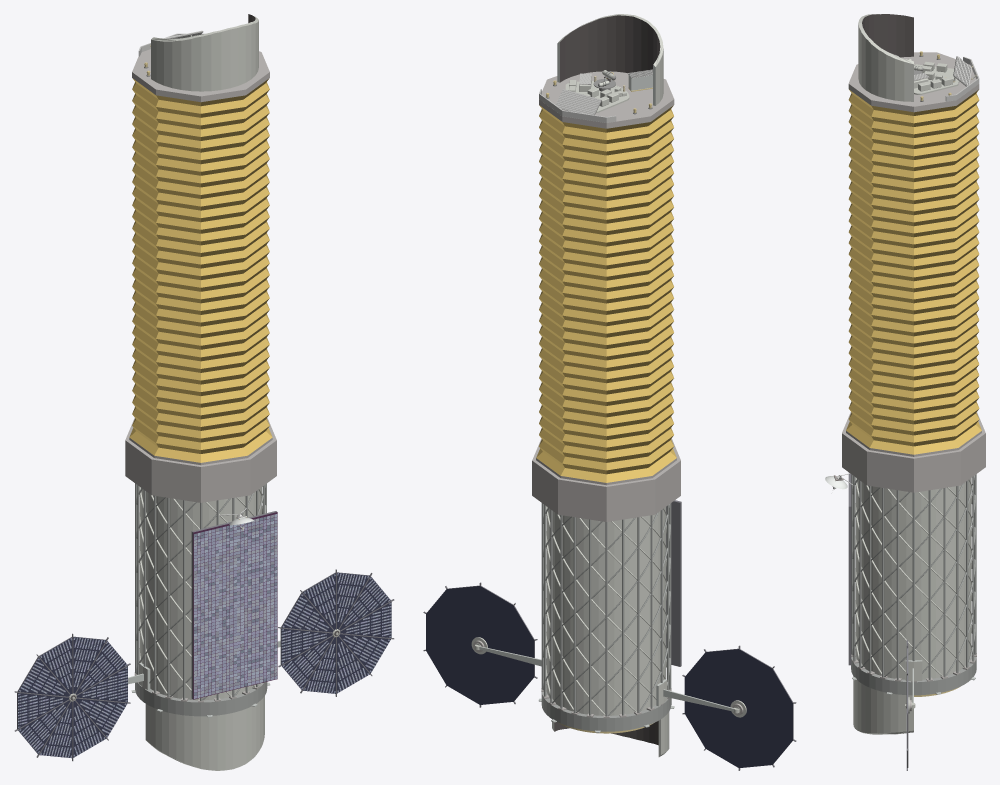
Rendered from international-x-ray-observatory.glb.
The picture shows the model from 3 angles, left to right: view 1: azimuth 30°, elevation 25°; view 2: azimuth 150°, elevation 25°; view 3: azimuth 270°, elevation 25°; orthographic projection. The views are drawn at different scales.
Visible parts, largest first — view 1: Layer_0; view 2: Layer_0; view 3: Layer_0.
Part boxes in pixels (x1,y1,x2,y2): Layer_0: [14, 14, 394, 770]; Layer_0: [423, 14, 796, 770]; Layer_0: [825, 14, 985, 770].
Bounding box in the file's own units: 28.77 × 53.56 × 11.13.
Materials: 2 (2 with a texture image).
